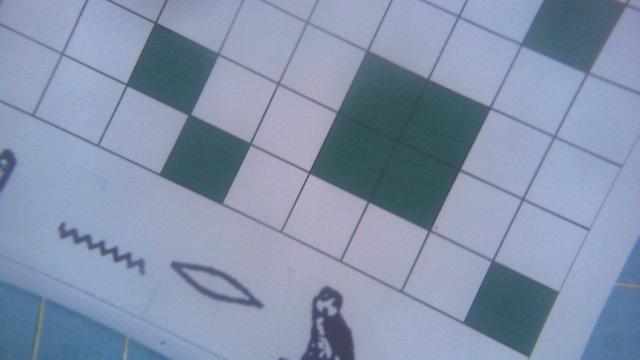Mouth: (167, 256, 268, 315)
Owl: (278, 284, 367, 359)
Water: (53, 221, 148, 278)
